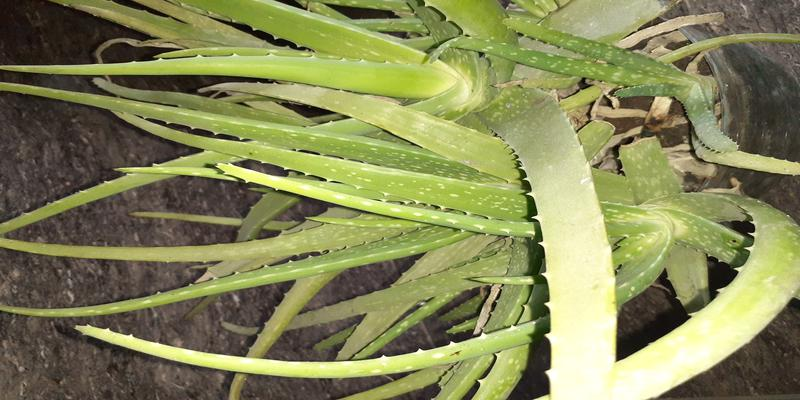Aloevera: (132, 19, 705, 326)
